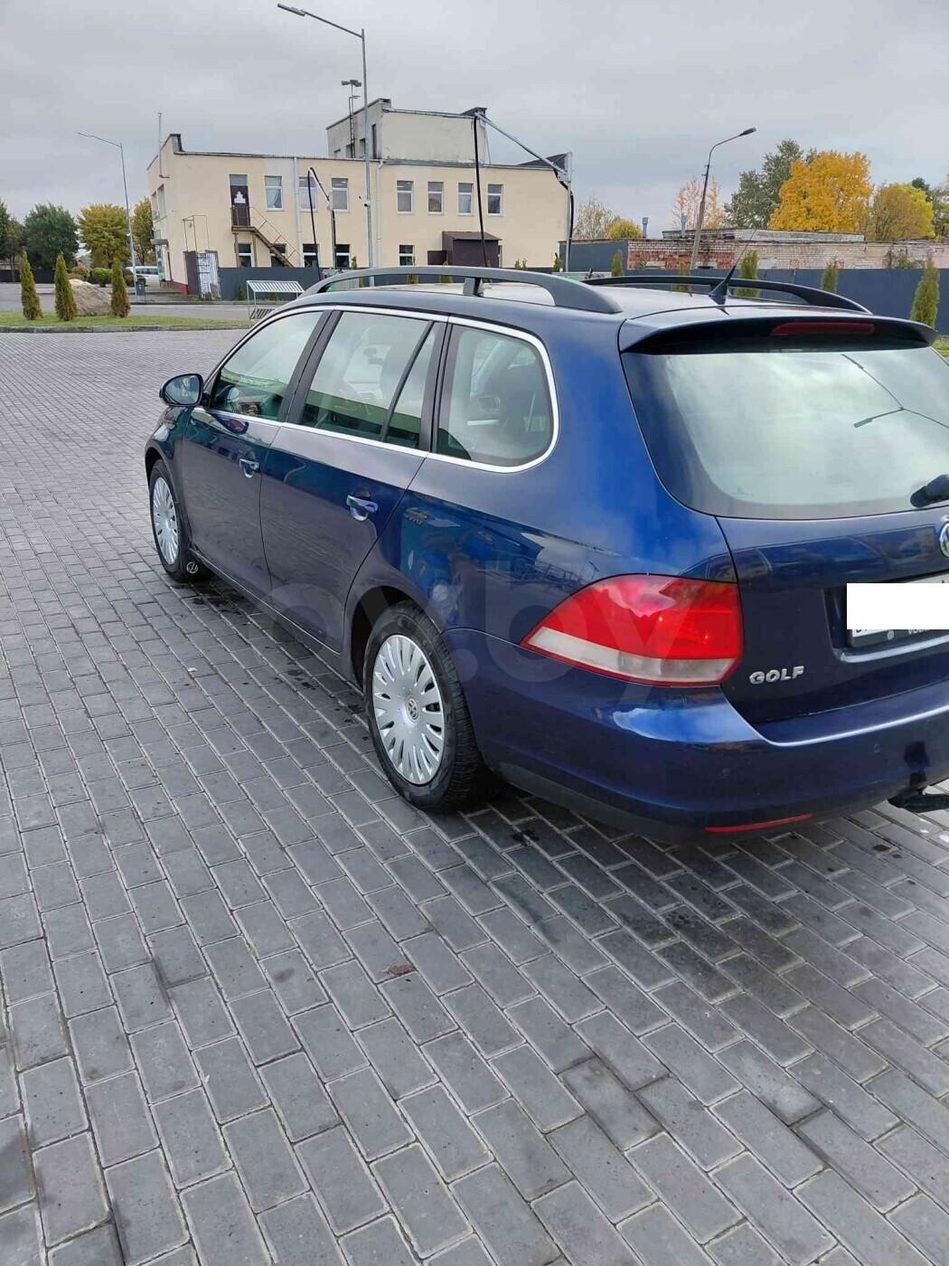Golf_2003-2009: (149, 258, 949, 843)
